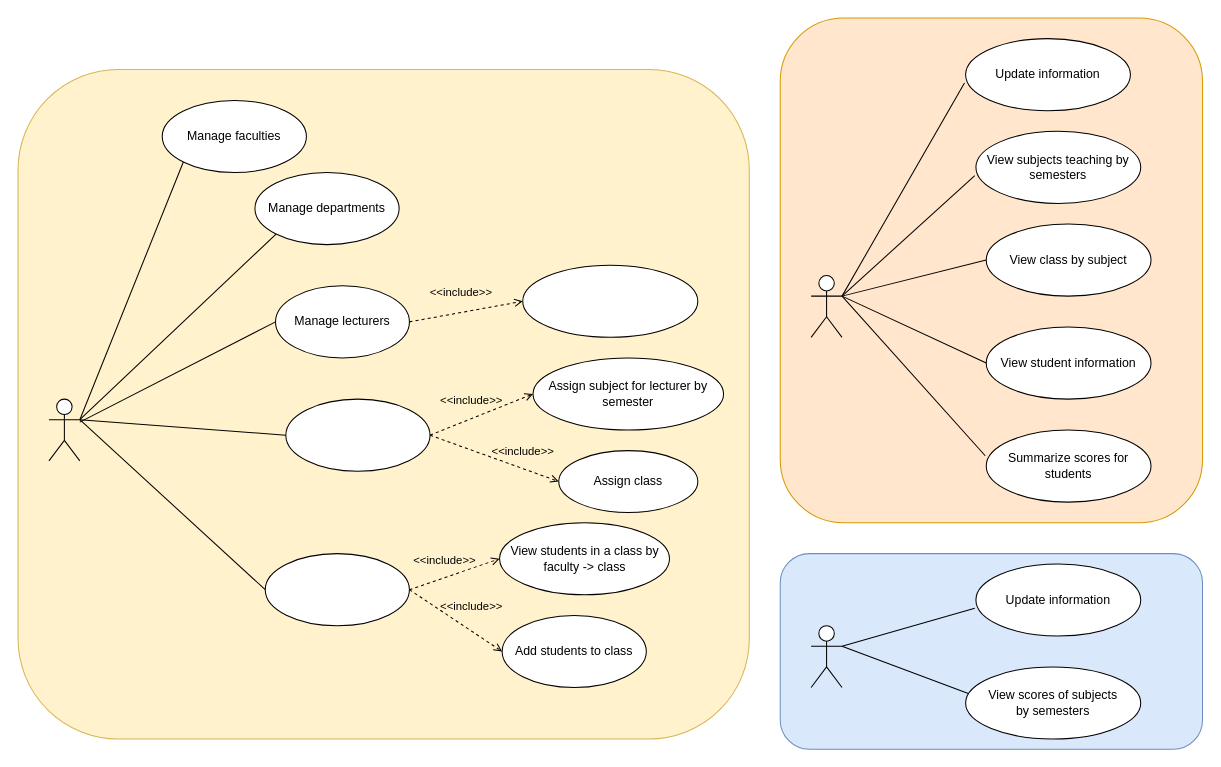
Image size: 1221x767. Some labels were removed from this diagram. Each missing label, with the box of its shape:
Admin: (48, 398, 80, 461)
Lecturer: (810, 274, 842, 337)
Manage class: (264, 553, 409, 626)
Manage subjects: (285, 398, 430, 471)
Student: (810, 625, 842, 688)
View lecturers by faculty -> department: (522, 264, 698, 337)
